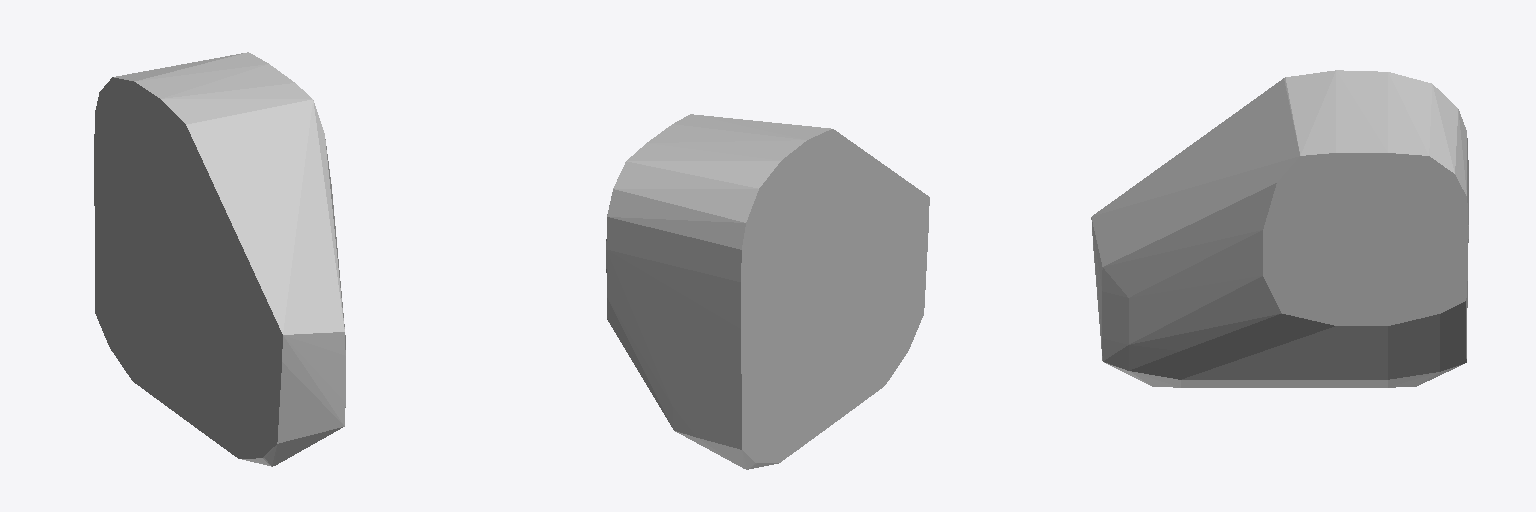
Rendered from Cart_outer_skeleton_collision_15.obj.
3 renders of one model, left to right at view 1: azimuth 30°, elevation 25°; view 2: azimuth 150°, elevation 25°; view 3: azimuth 270°, elevation 25°, orthographic.
Size of the model in its own units: 0.0251 by 0.0544 by 0.0608.